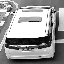mobil: (4, 4, 55, 59)
